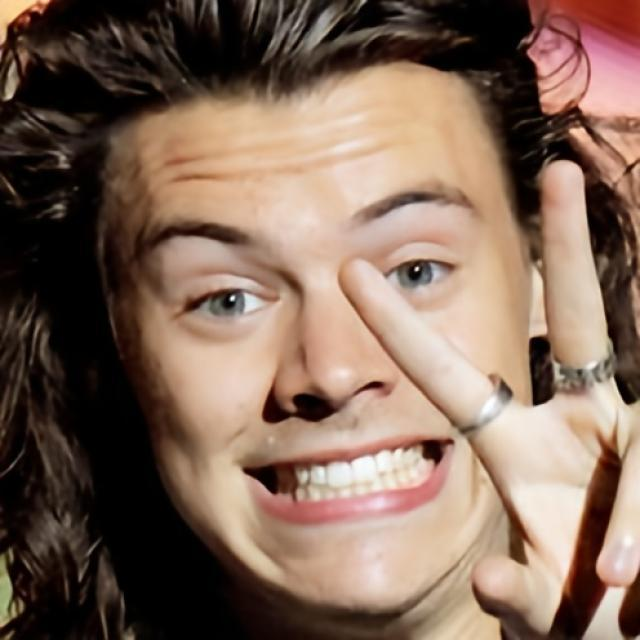Surprised: (103, 57, 536, 625)
